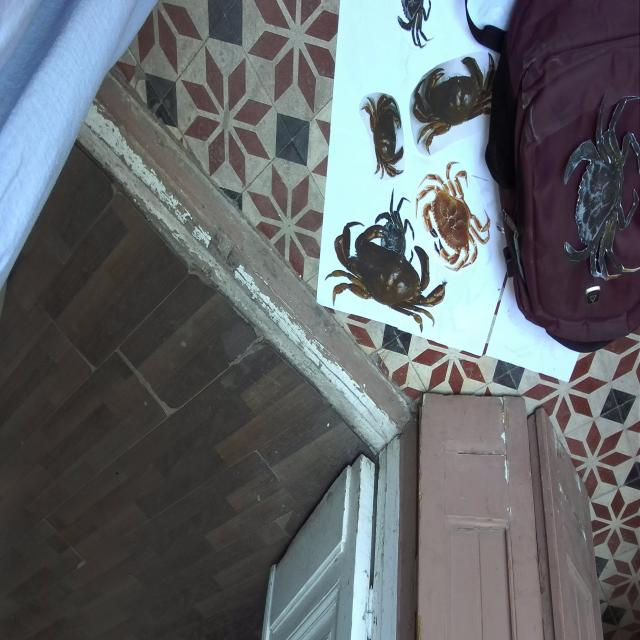European_Green_Crab: (564, 93, 639, 277), (375, 185, 419, 258), (398, 0, 433, 47)
